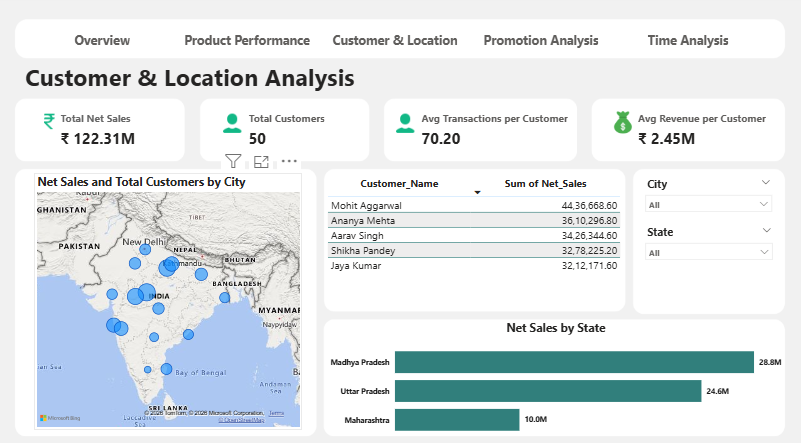

This screenshot's page, from the dashboard's own definition file:
{"tool":"powerbi","page":{"name":"Customer & Location ","canvas":[1280,720],"ordinal":2},"visuals":[{"type":"cardVisual","fields":{"Data":["Measures (2).Total Net Sales"]},"box":[48.3,161.7,223.3,106.7],"z":0},{"type":"cardVisual","fields":{"Data":["Measures (2).Total Customers"]},"box":[336.7,161.7,241.7,106.7],"z":1000},{"type":"cardVisual","fields":{"Data":["Measures (2).Avg Revenue per Customer"]},"box":[960,161.7,298.3,106.7],"z":2000},{"type":"slicer","fields":{"Values":["dim_customer.City"]},"box":[1021.7,283.3,221.7,76.7],"z":3000},{"type":"slicer","fields":{"Values":["dim_customer.State"]},"box":[1021.1,360,223,76.5],"z":4000},{"type":"map","title":"Net Sales and Total Customers by City","fields":{"Category":["dim_customer.City"],"Size":["Measures (2).Total Net Sales"]},"box":[56.7,283.3,428.3,410],"z":5000},{"type":"barChart","title":"Net Sales by State","fields":{"Y":["Sum(fact_sales.Net_Sales)"],"Category":["dim_customer.State"]},"box":[520,516.7,738.3,203.3],"z":6000},{"type":"tableEx","fields":{"Values":["dim_customer.Customer_Name","Sum(fact_sales.Net_Sales)"]},"box":[519.3,283.5,487.4,219.8],"z":7000},{"type":"actionButton","title":"Overview","box":[55.8,49.2,220,45],"z":8000},{"type":"actionButton","box":[287.2,49.2,219.9,44.3],"z":9000},{"type":"actionButton","box":[521.8,49.2,219.9,44.3],"z":10000},{"type":"actionButton","box":[754.9,49.2,219.9,44.3],"z":11000},{"type":"actionButton","box":[989.5,49.2,219.9,44.3],"z":12000},{"type":"cardVisual","fields":{"Data":["Measures (2).Avg Transactions per Customer"]},"box":[611.7,161.7,326.7,106.7],"z":13000},{"type":"textbox","box":[38.3,100,540,61.7],"z":14000}]}

Visuals, with their boxes in screenshot pixels (x1, y1, x2, y2), scaled from the page's 1280x720 canvas onto the 801x443 screenshot:
cardVisual - Measures (2).Total Net Sales: detection(30, 99, 170, 165)
cardVisual - Measures (2).Total Customers: detection(211, 99, 362, 165)
cardVisual - Measures (2).Avg Revenue per Customer: detection(601, 99, 787, 165)
slicer - dim_customer.City: detection(639, 174, 778, 222)
slicer - dim_customer.State: detection(639, 222, 779, 269)
"Net Sales and Total Customers by City" map: detection(35, 174, 304, 427)
"Net Sales by State" barChart: detection(325, 318, 787, 442)
tableEx - dim_customer.Customer_Name x Sum(fact_sales.Net_Sales): detection(325, 174, 630, 310)
"Overview" actionButton: detection(35, 30, 173, 58)
actionButton: detection(180, 30, 317, 58)
actionButton: detection(327, 30, 464, 58)
actionButton: detection(472, 30, 610, 58)
actionButton: detection(619, 30, 757, 58)
cardVisual - Measures (2).Avg Transactions per Customer: detection(383, 99, 587, 165)
textbox: detection(24, 62, 362, 99)
